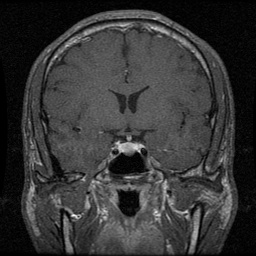pituitary: (113, 141, 145, 156)
